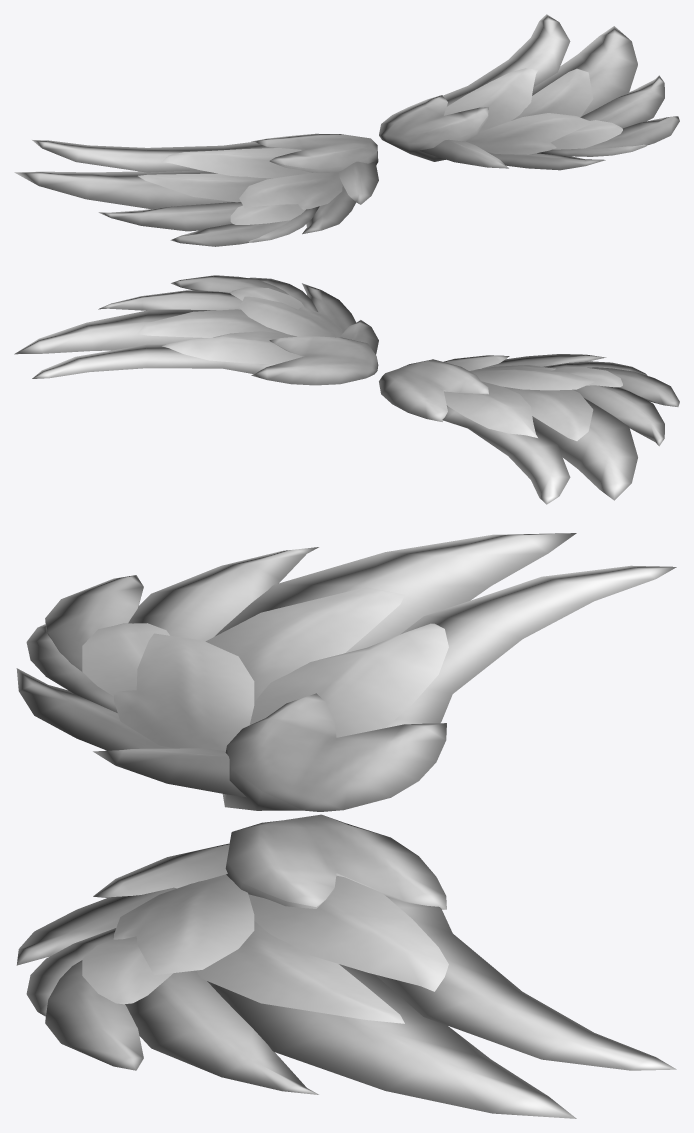
File: Avatar_Back_Base_Mod.FBX
3 renders of one model, top to bottom at view 1: azimuth 30°, elevation 25°; view 2: azimuth 150°, elevation 25°; view 3: azimuth 270°, elevation 25°, orthographic. The views are drawn at different scales.
Parts seen in each view (by area): view 1: Avatar_Back_Base_Mod; view 2: Avatar_Back_Base_Mod; view 3: Avatar_Back_Base_Mod.
Boxes of the visible parts, x1,y1,x2,y2 form: Avatar_Back_Base_Mod: (14, 14, 679, 246); Avatar_Back_Base_Mod: (14, 275, 679, 504); Avatar_Back_Base_Mod: (16, 533, 676, 1118).
Bounding box in the file's own units: 118 × 4.56 × 55.99.
